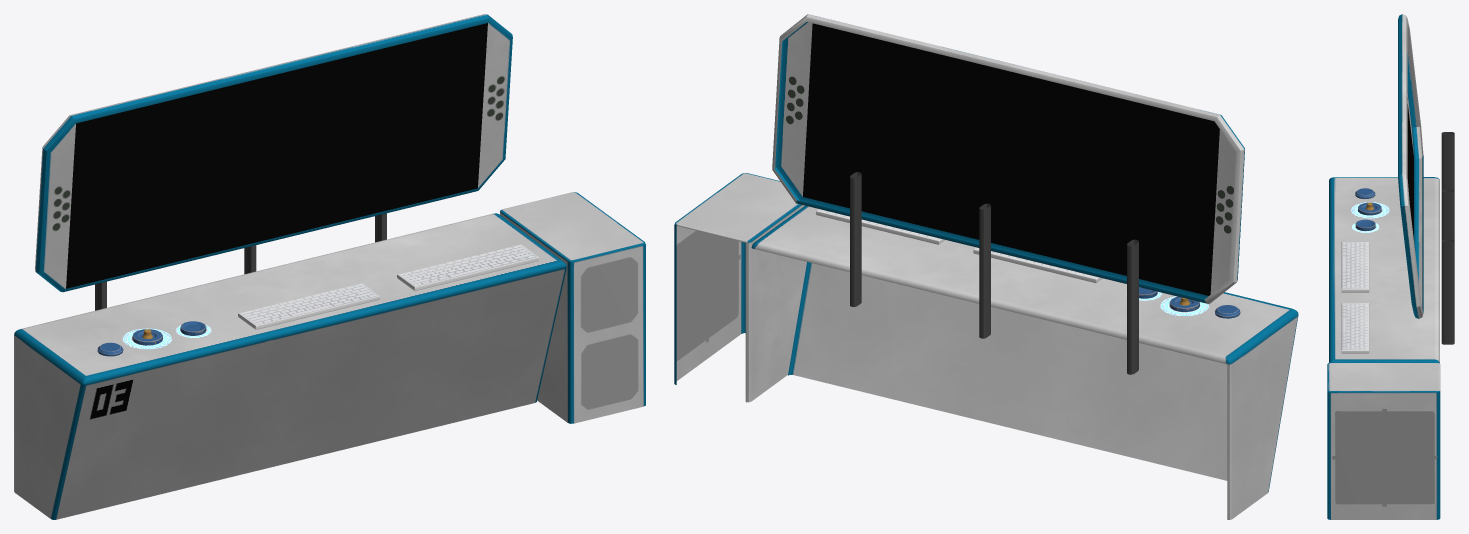
The model's file is Terminal_SalaMedicaV4.fbx.
3 views of the same model, side by side, from view 1: azimuth 30°, elevation 25°; view 2: azimuth 150°, elevation 25°; view 3: azimuth 270°, elevation 25° (orthographic). The views are drawn at different scales.
Visible parts, largest first — view 1: Terminal_Sm; view 2: Terminal_Sm; view 3: Terminal_Sm.
Part boxes in pixels (<box>): Terminal_Sm: <box>14,14,645,519</box>; Terminal_Sm: <box>674,14,1298,519</box>; Terminal_Sm: <box>1327,14,1454,519</box>.
Bounding box in the file's own units: 324 × 211 × 80.48.
2 materials, 2 textured.
